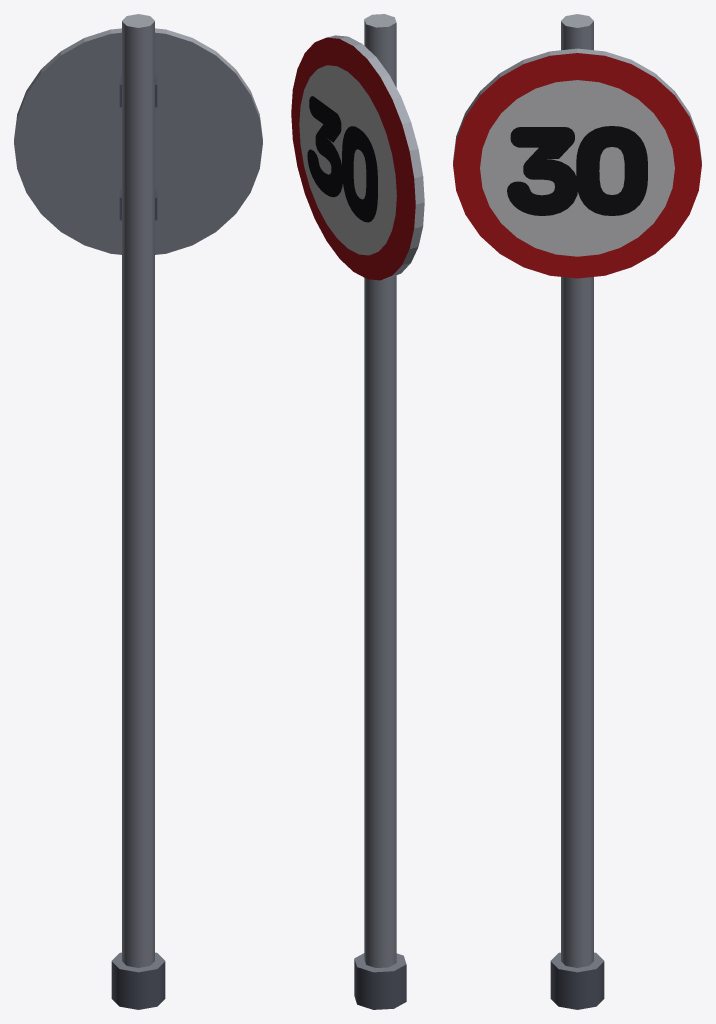
The model's file is sign_speed30.glb.
The picture shows the model from 3 angles, left to right: view 1: azimuth 90°, elevation 25°; view 2: azimuth 210°, elevation 25°; view 3: azimuth 270°, elevation 25°; orthographic projection.
Parts seen in each view (by area): view 1: Sign; view 2: Sign; view 3: Sign.
Part boxes in pixels (box(x1,y1,x2,y2)): Sign: box(14, 14, 262, 1009); Sign: box(291, 14, 424, 1009); Sign: box(453, 14, 701, 1009).
Bounding box in the file's own units: 0.17 × 2.6 × 0.6.
